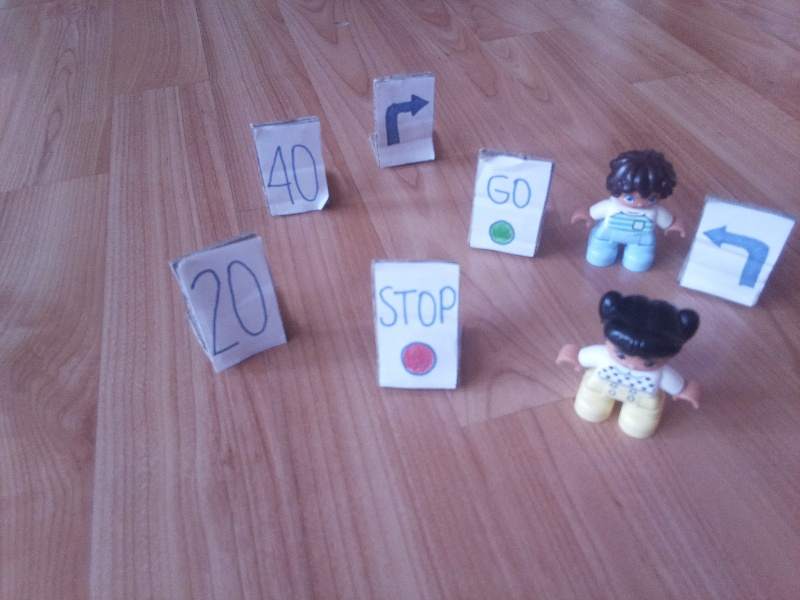20: (190, 262, 273, 352)
40: (260, 142, 321, 206)
go: (482, 165, 534, 249)
person: (542, 289, 701, 445), (573, 151, 683, 276)
stop: (377, 277, 458, 377)
turn left: (701, 220, 770, 292)
turn right: (380, 93, 431, 148)
